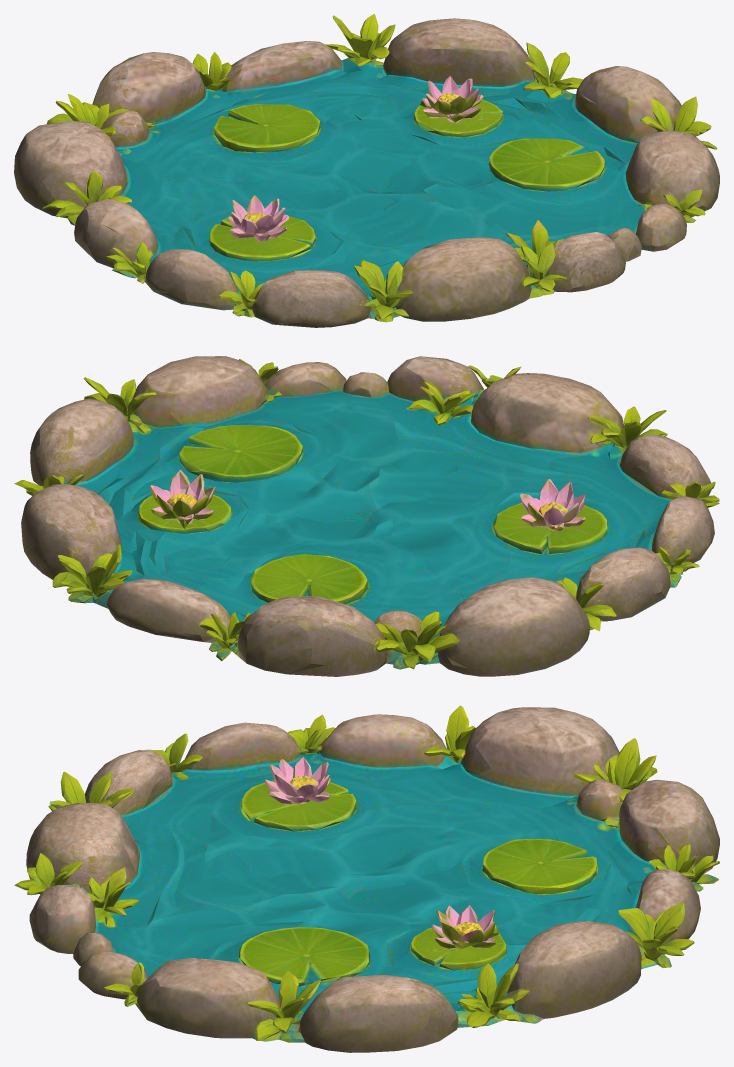
File: lotus-pond.glb
3 views of the same model, one above another, from view 1: azimuth 30°, elevation 25°; view 2: azimuth 150°, elevation 25°; view 3: azimuth 270°, elevation 25° (orthographic). The views are drawn at different scales.
Parts seen in each view (by area): view 1: output_unwrapped; view 2: output_unwrapped; view 3: output_unwrapped.
Boxes of the visible parts, bbox=[...] form: output_unwrapped: bbox=[14, 14, 719, 327]; output_unwrapped: bbox=[14, 356, 719, 676]; output_unwrapped: bbox=[14, 705, 719, 1052].
Bounding box in the file's own units: 1.9 × 0.1727 × 1.82.
1 material, 1 textured.
